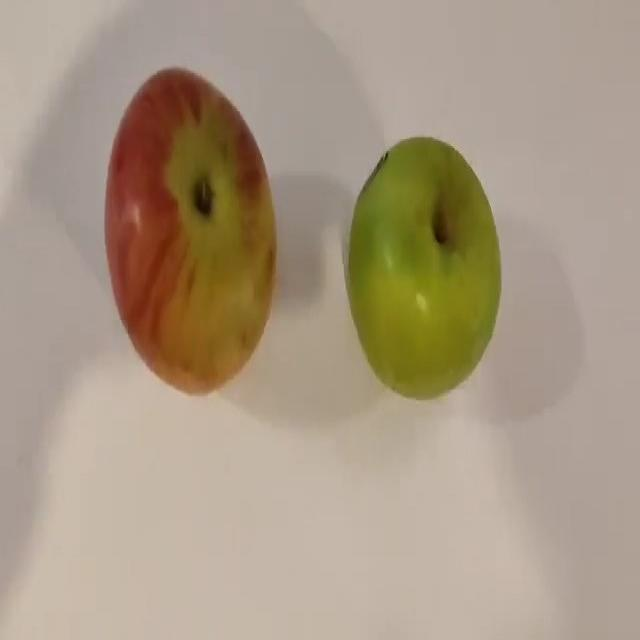Apple: (103, 65, 277, 396), (345, 135, 502, 400)
